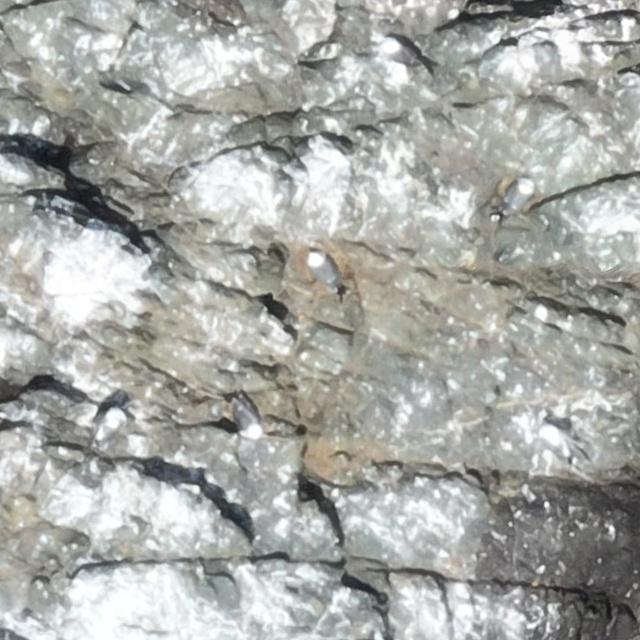umineko: (379, 37, 425, 70), (90, 407, 127, 448), (501, 178, 535, 215), (308, 255, 335, 288), (238, 402, 260, 434)
